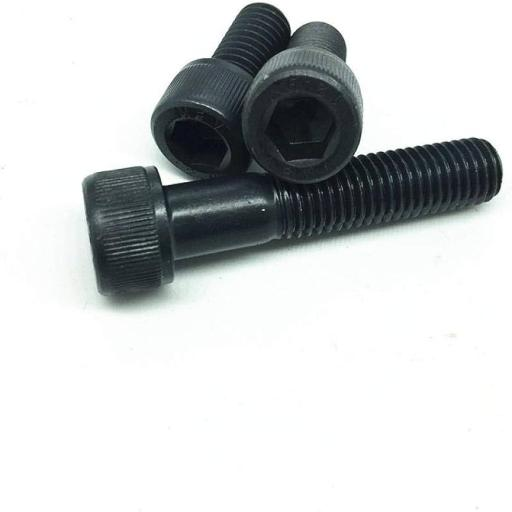Hex-Allen: (240, 47, 364, 185)
